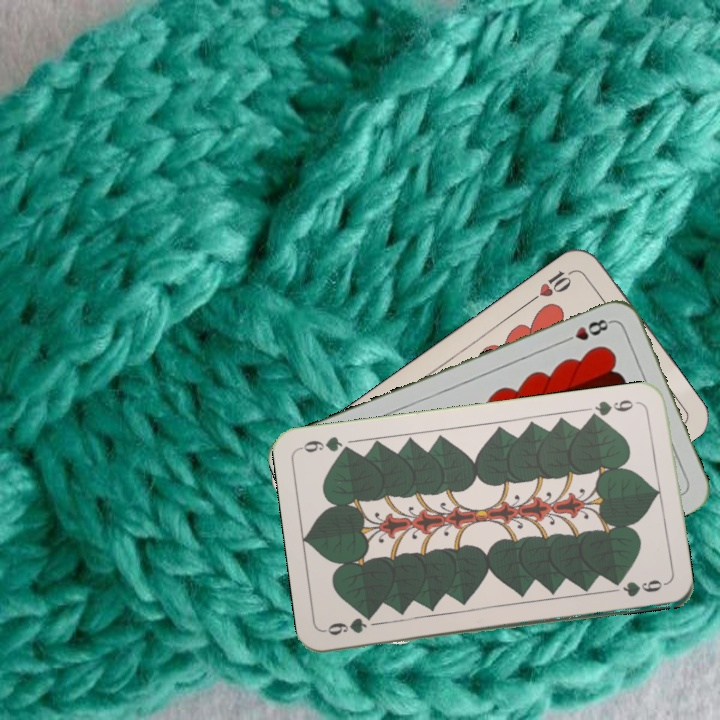G9: (321, 611, 376, 638), (585, 395, 636, 422)
H10: (526, 265, 578, 305)
H8: (558, 315, 615, 346)
